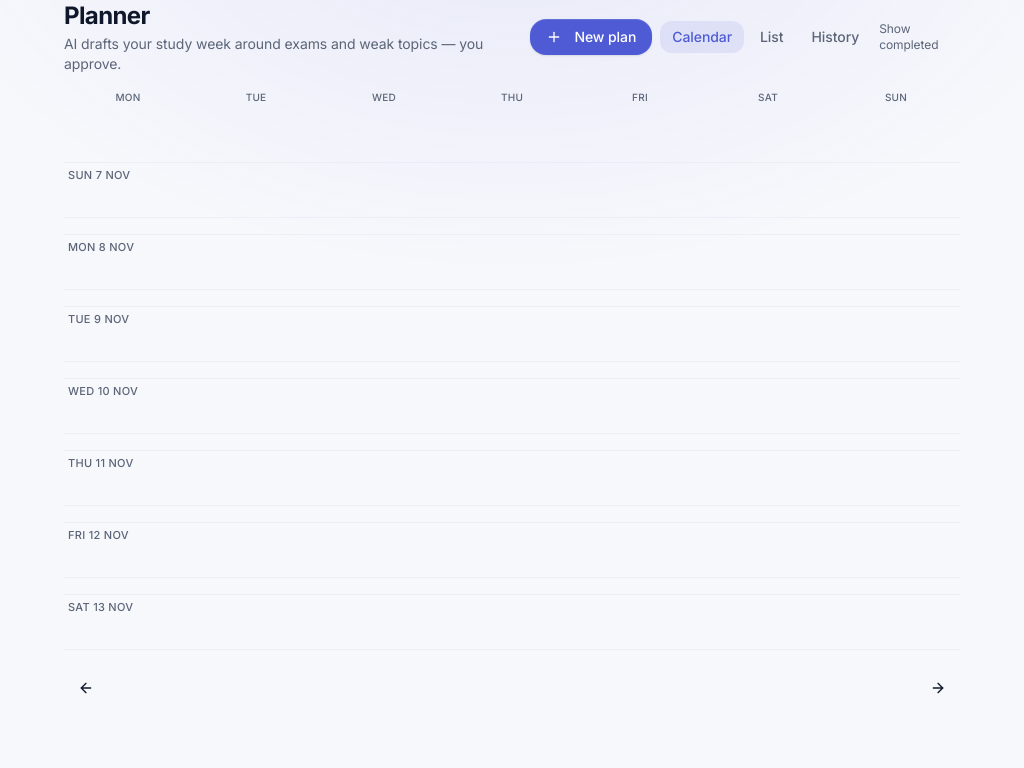
it: the create-plan dialog › opens from the New plan button
Step 1. Click the button "New plan" → (591, 37), box [530, 19, 652, 55]
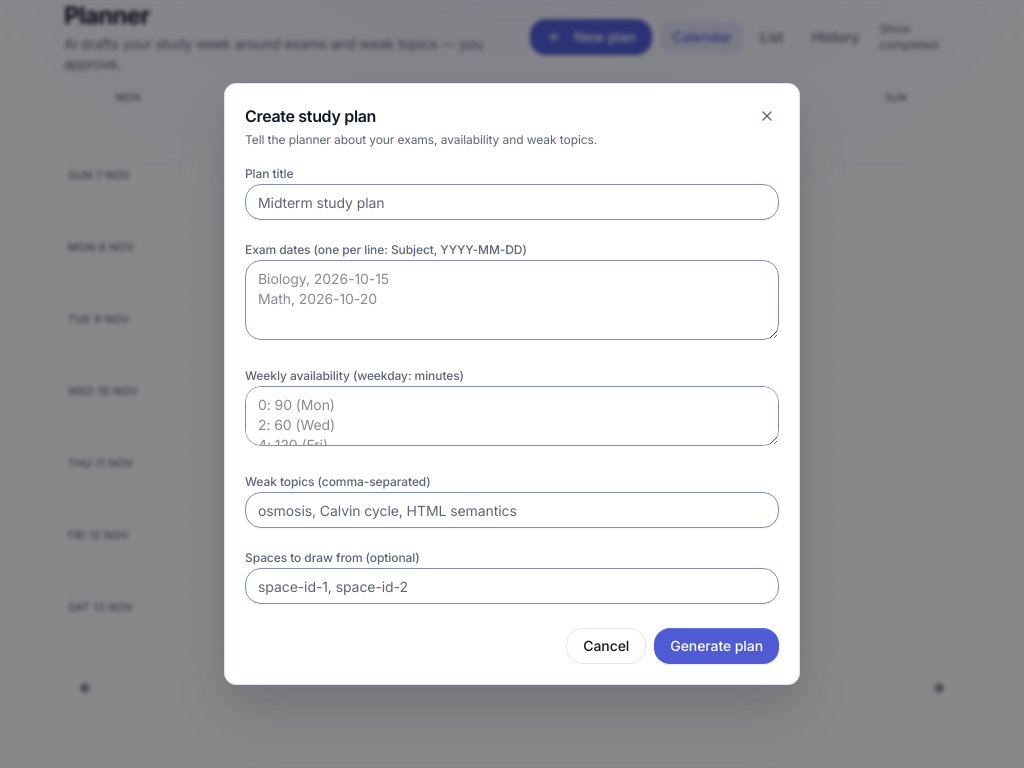
expect the field with placeholder "Midterm study plan" is shown: met, box [245, 184, 779, 220]
